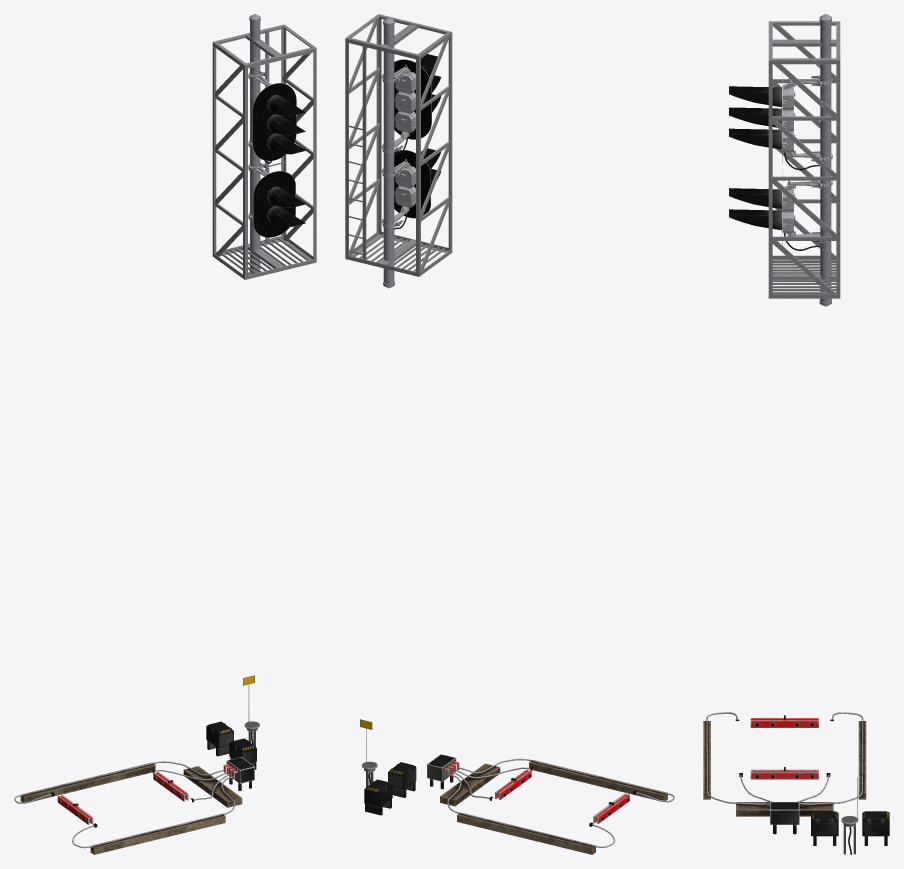
File: RM_sig_P_RM2_YGR+YW_3+2_exit.gltf
3 renders of one model, left to right at view 1: azimuth 30°, elevation 25°; view 2: azimuth 150°, elevation 25°; view 3: azimuth 270°, elevation 25°, orthographic. The views are drawn at different scales.
Visible parts, largest first — view 1: Клетка, Изостык, Светофор; view 2: Клетка, Изостык, Светофор; view 3: Клетка, Изостык, Светофор.
Part boxes in pixels (bbox=[...]): Клетка: bbox=[212, 14, 316, 279]; Изостык: bbox=[14, 675, 259, 854]; Светофор: bbox=[248, 71, 305, 237]; Клетка: bbox=[345, 14, 452, 288]; Изостык: bbox=[360, 719, 674, 854]; Светофор: bbox=[381, 54, 441, 229]; Клетка: bbox=[768, 14, 840, 306]; Изостык: bbox=[703, 712, 889, 854]; Светофор: bbox=[729, 73, 832, 250].
Size of the model in its own units: 4.42 by 12.01 by 2.43.
Materials: 4 (3 with a texture image).
